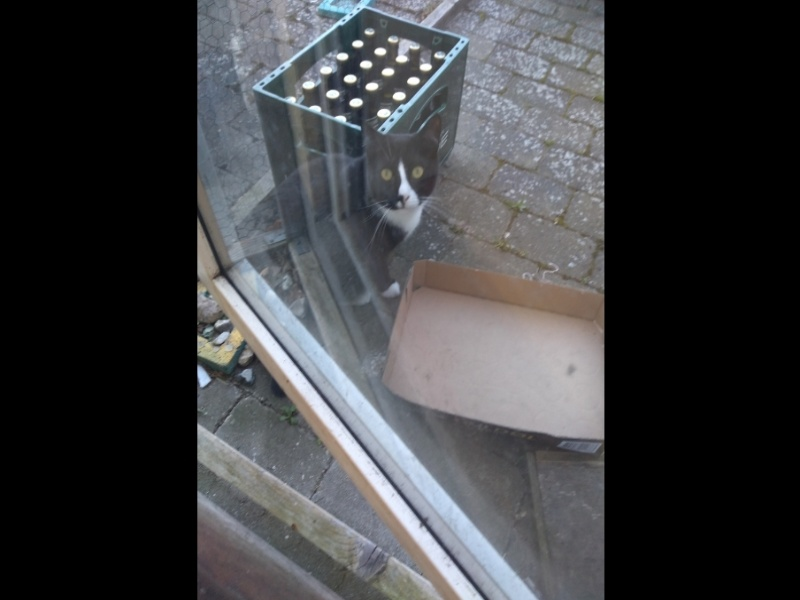cat: (268, 110, 450, 322)
